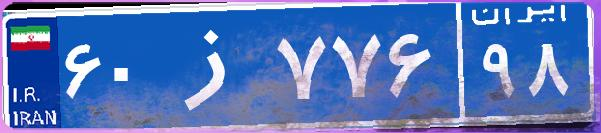0: (110, 28, 158, 105)
6: (385, 28, 445, 110), (57, 26, 110, 107)
7: (273, 28, 330, 110), (330, 28, 385, 110)
8: (525, 38, 570, 115)
9: (475, 38, 525, 113)
ز: (158, 15, 273, 115)
